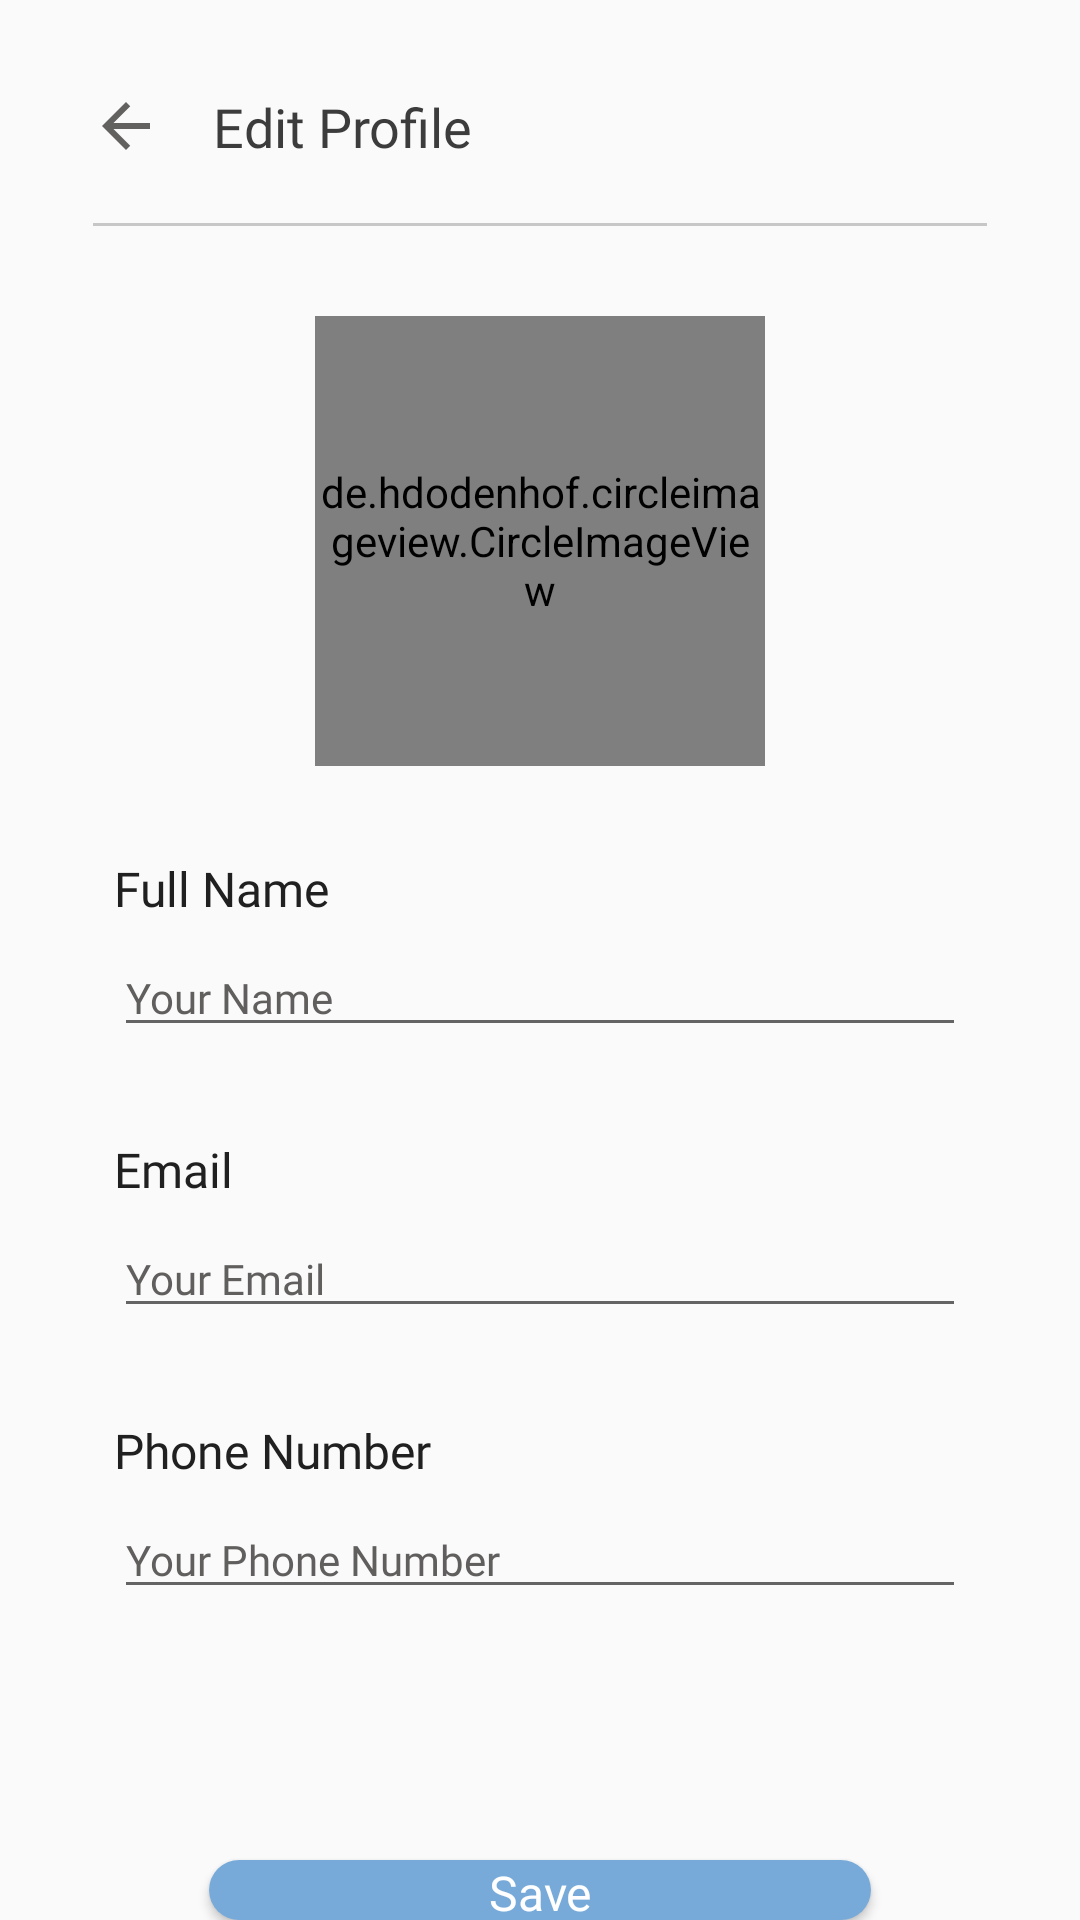

Locate icon controls on the screen. Image size 1080×1920, boxes as (x1, y1, x2, y2).
arrow back: (102, 102, 150, 150)
